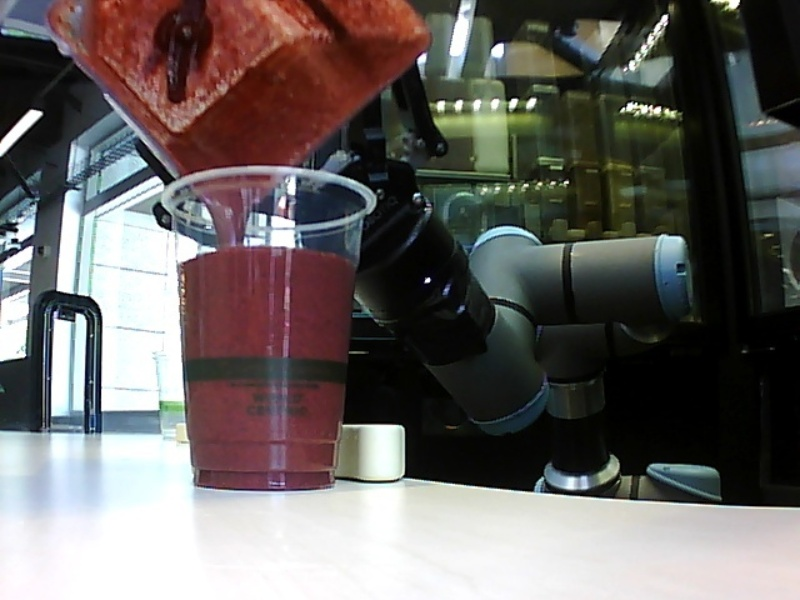cup: (155, 160, 380, 496)
limit: (177, 237, 362, 272)
